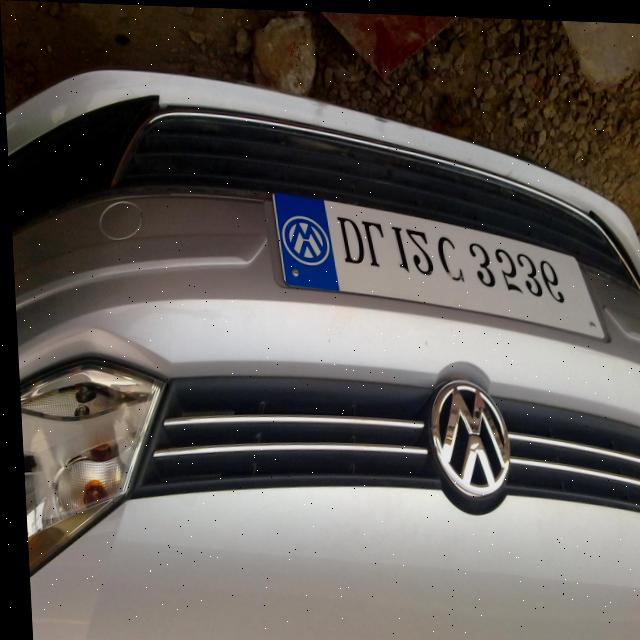plate: (268, 181, 607, 343)
